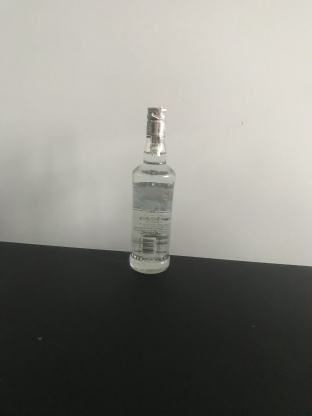nakretka: (144, 103, 167, 139)
